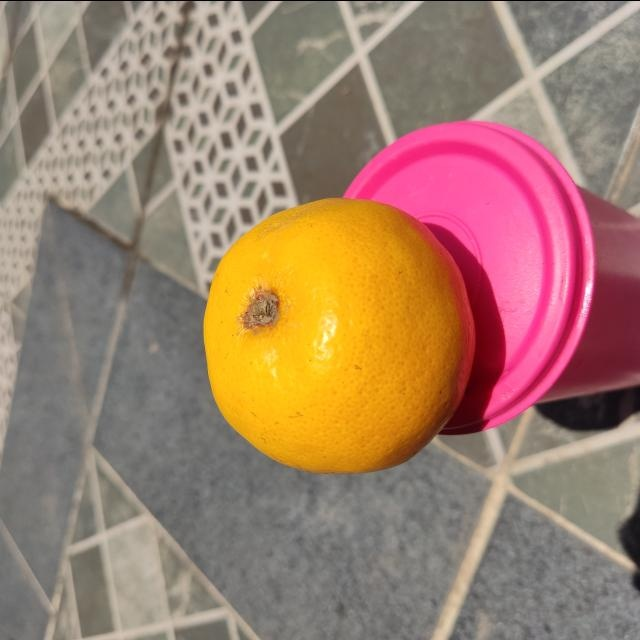agrume: (200, 198, 478, 474)
